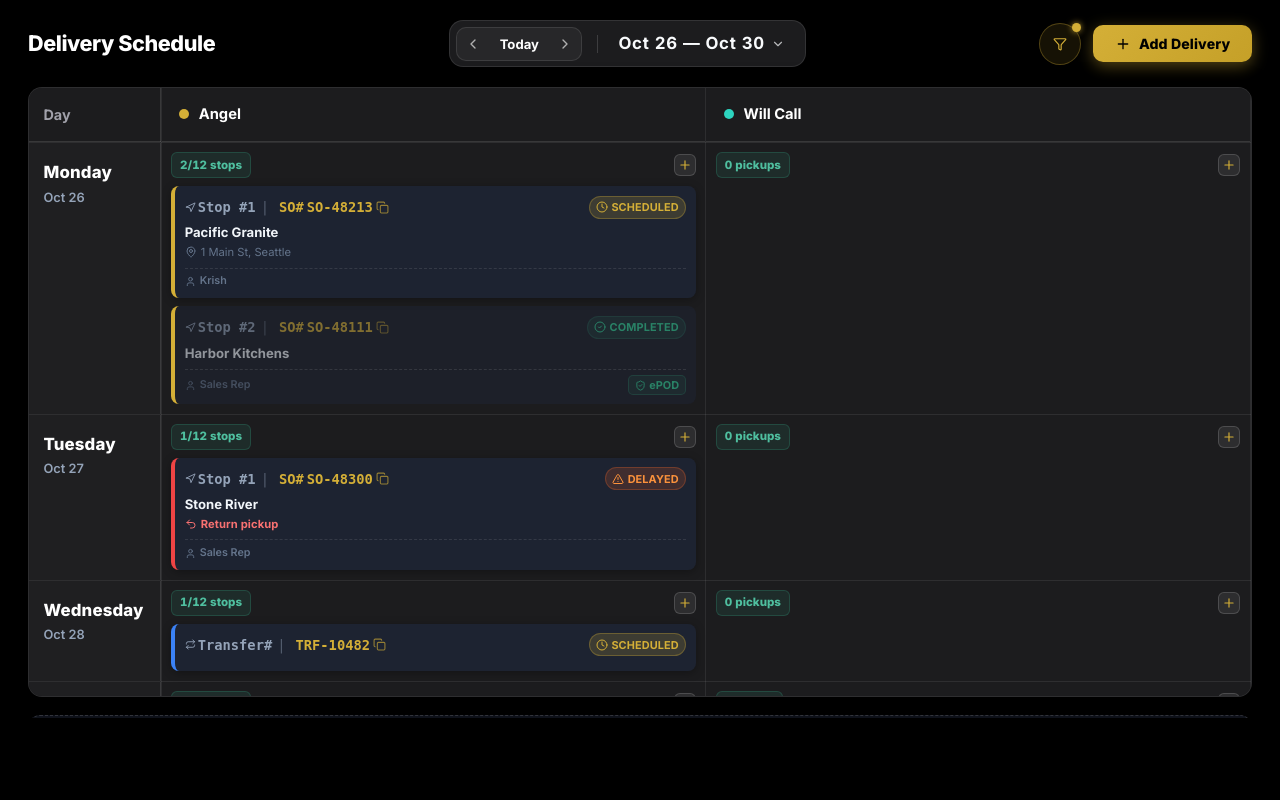
Test: Delivery Schedule › opens the ePOD viewer on a signed delivery
The image size is (1280, 800).
Click the button with class "epod-chip-verified": (657, 385) 628,375 -> 686,395
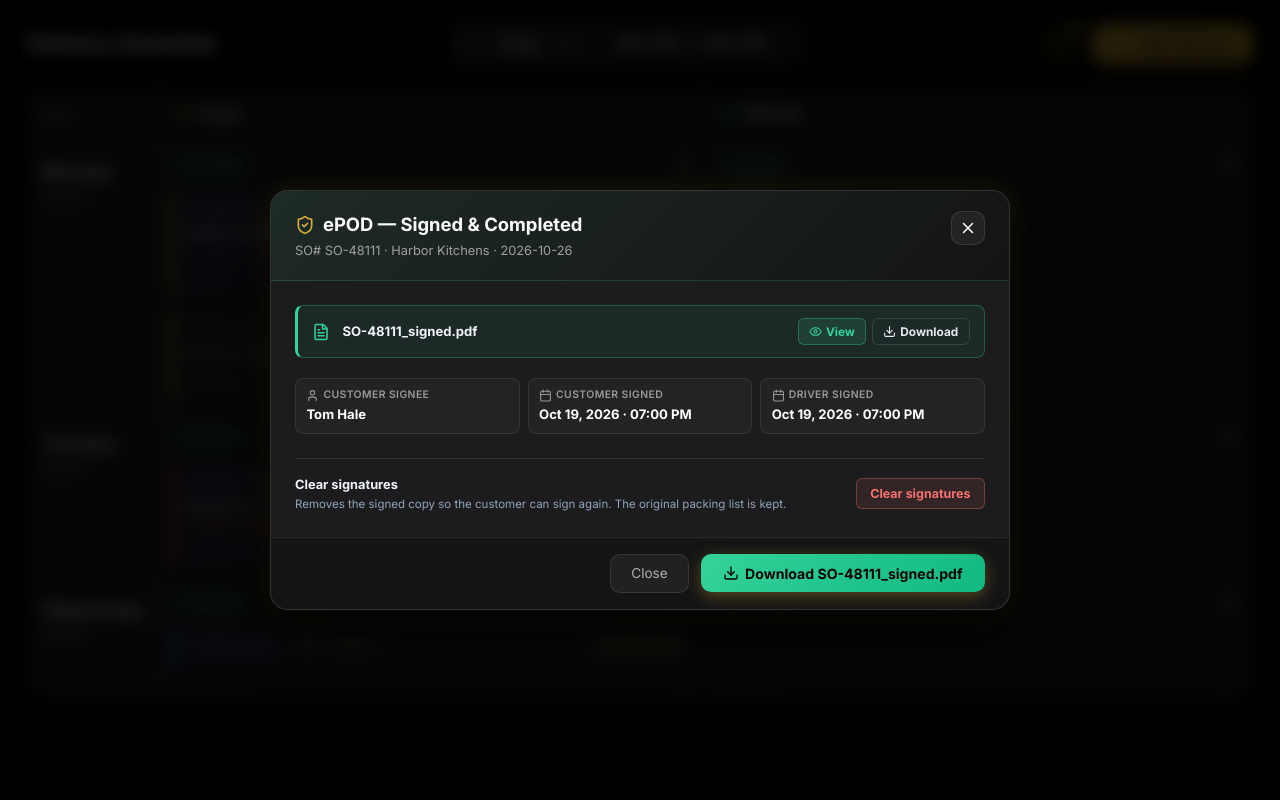
Expected: the text "Tom Hale" is shown, 306,406 -> 366,422
Expected: the text "Clear signatures" is shown, 295,476 -> 398,492
